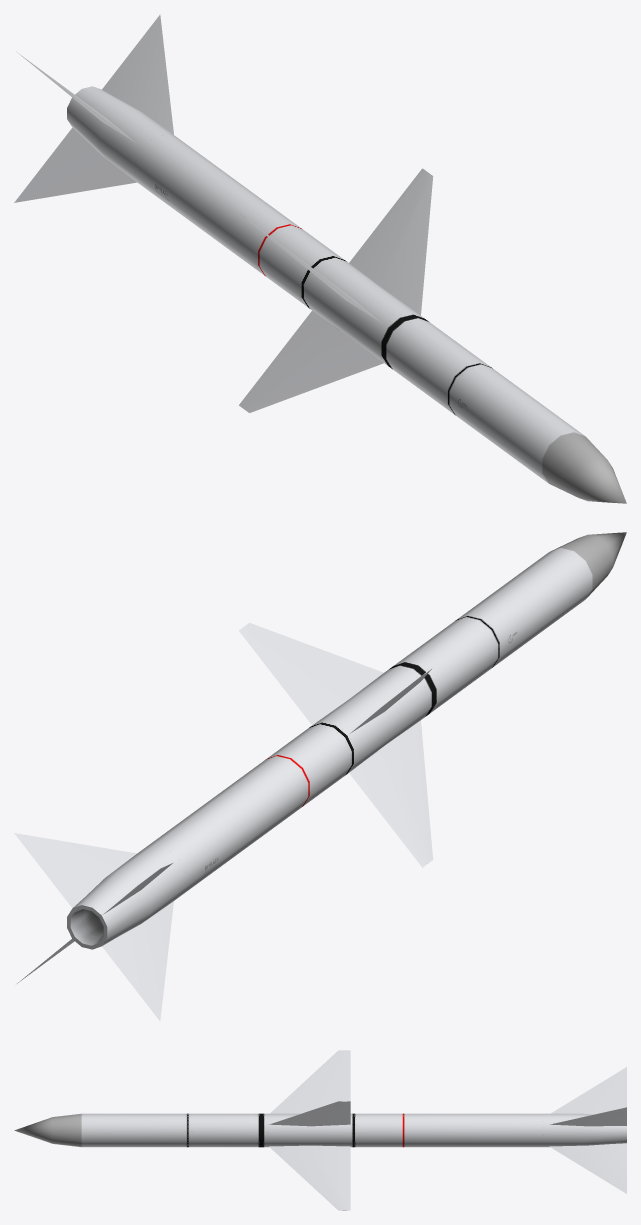
3 views of the same model, one above another, from view 1: azimuth 30°, elevation 25°; view 2: azimuth 150°, elevation 25°; view 3: azimuth 270°, elevation 25° (orthographic). The views are drawn at different scales.
Parts seen in each view (by area): view 1: SKYFLASH_BODY, SKYFLASH_FINS; view 2: SKYFLASH_BODY, SKYFLASH_FINS; view 3: SKYFLASH_BODY, SKYFLASH_FINS.
Part boxes in pixels (x1=…): SKYFLASH_BODY: x1=67, y1=86, x2=626, y2=503; SKYFLASH_FINS: x1=14, y1=14, x2=433, y2=412; SKYFLASH_BODY: x1=67, y1=532, x2=626, y2=949; SKYFLASH_FINS: x1=14, y1=623, x2=433, y2=1021; SKYFLASH_BODY: x1=14, y1=1113, x2=626, y2=1147; SKYFLASH_FINS: x1=269, y1=1050, x2=626, y2=1210.
Size of the model in its own units: 0.3942 by 0.3942 by 2.
1 material, 1 textured.
